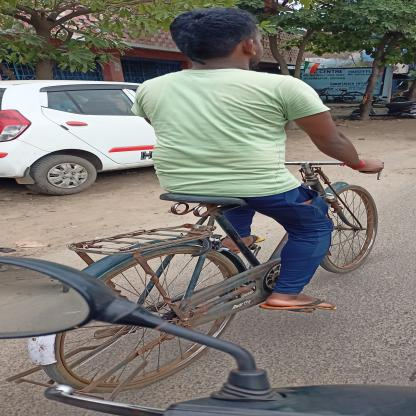bike: (14, 157, 403, 402)
